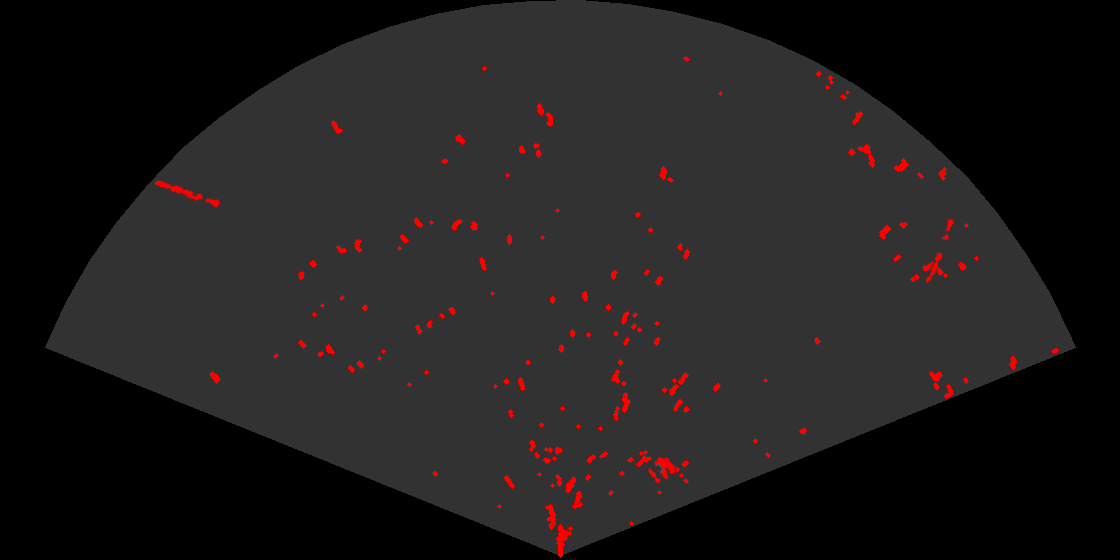ball: (647, 455, 677, 485)
chain: (924, 216, 956, 285), (154, 179, 226, 209)
